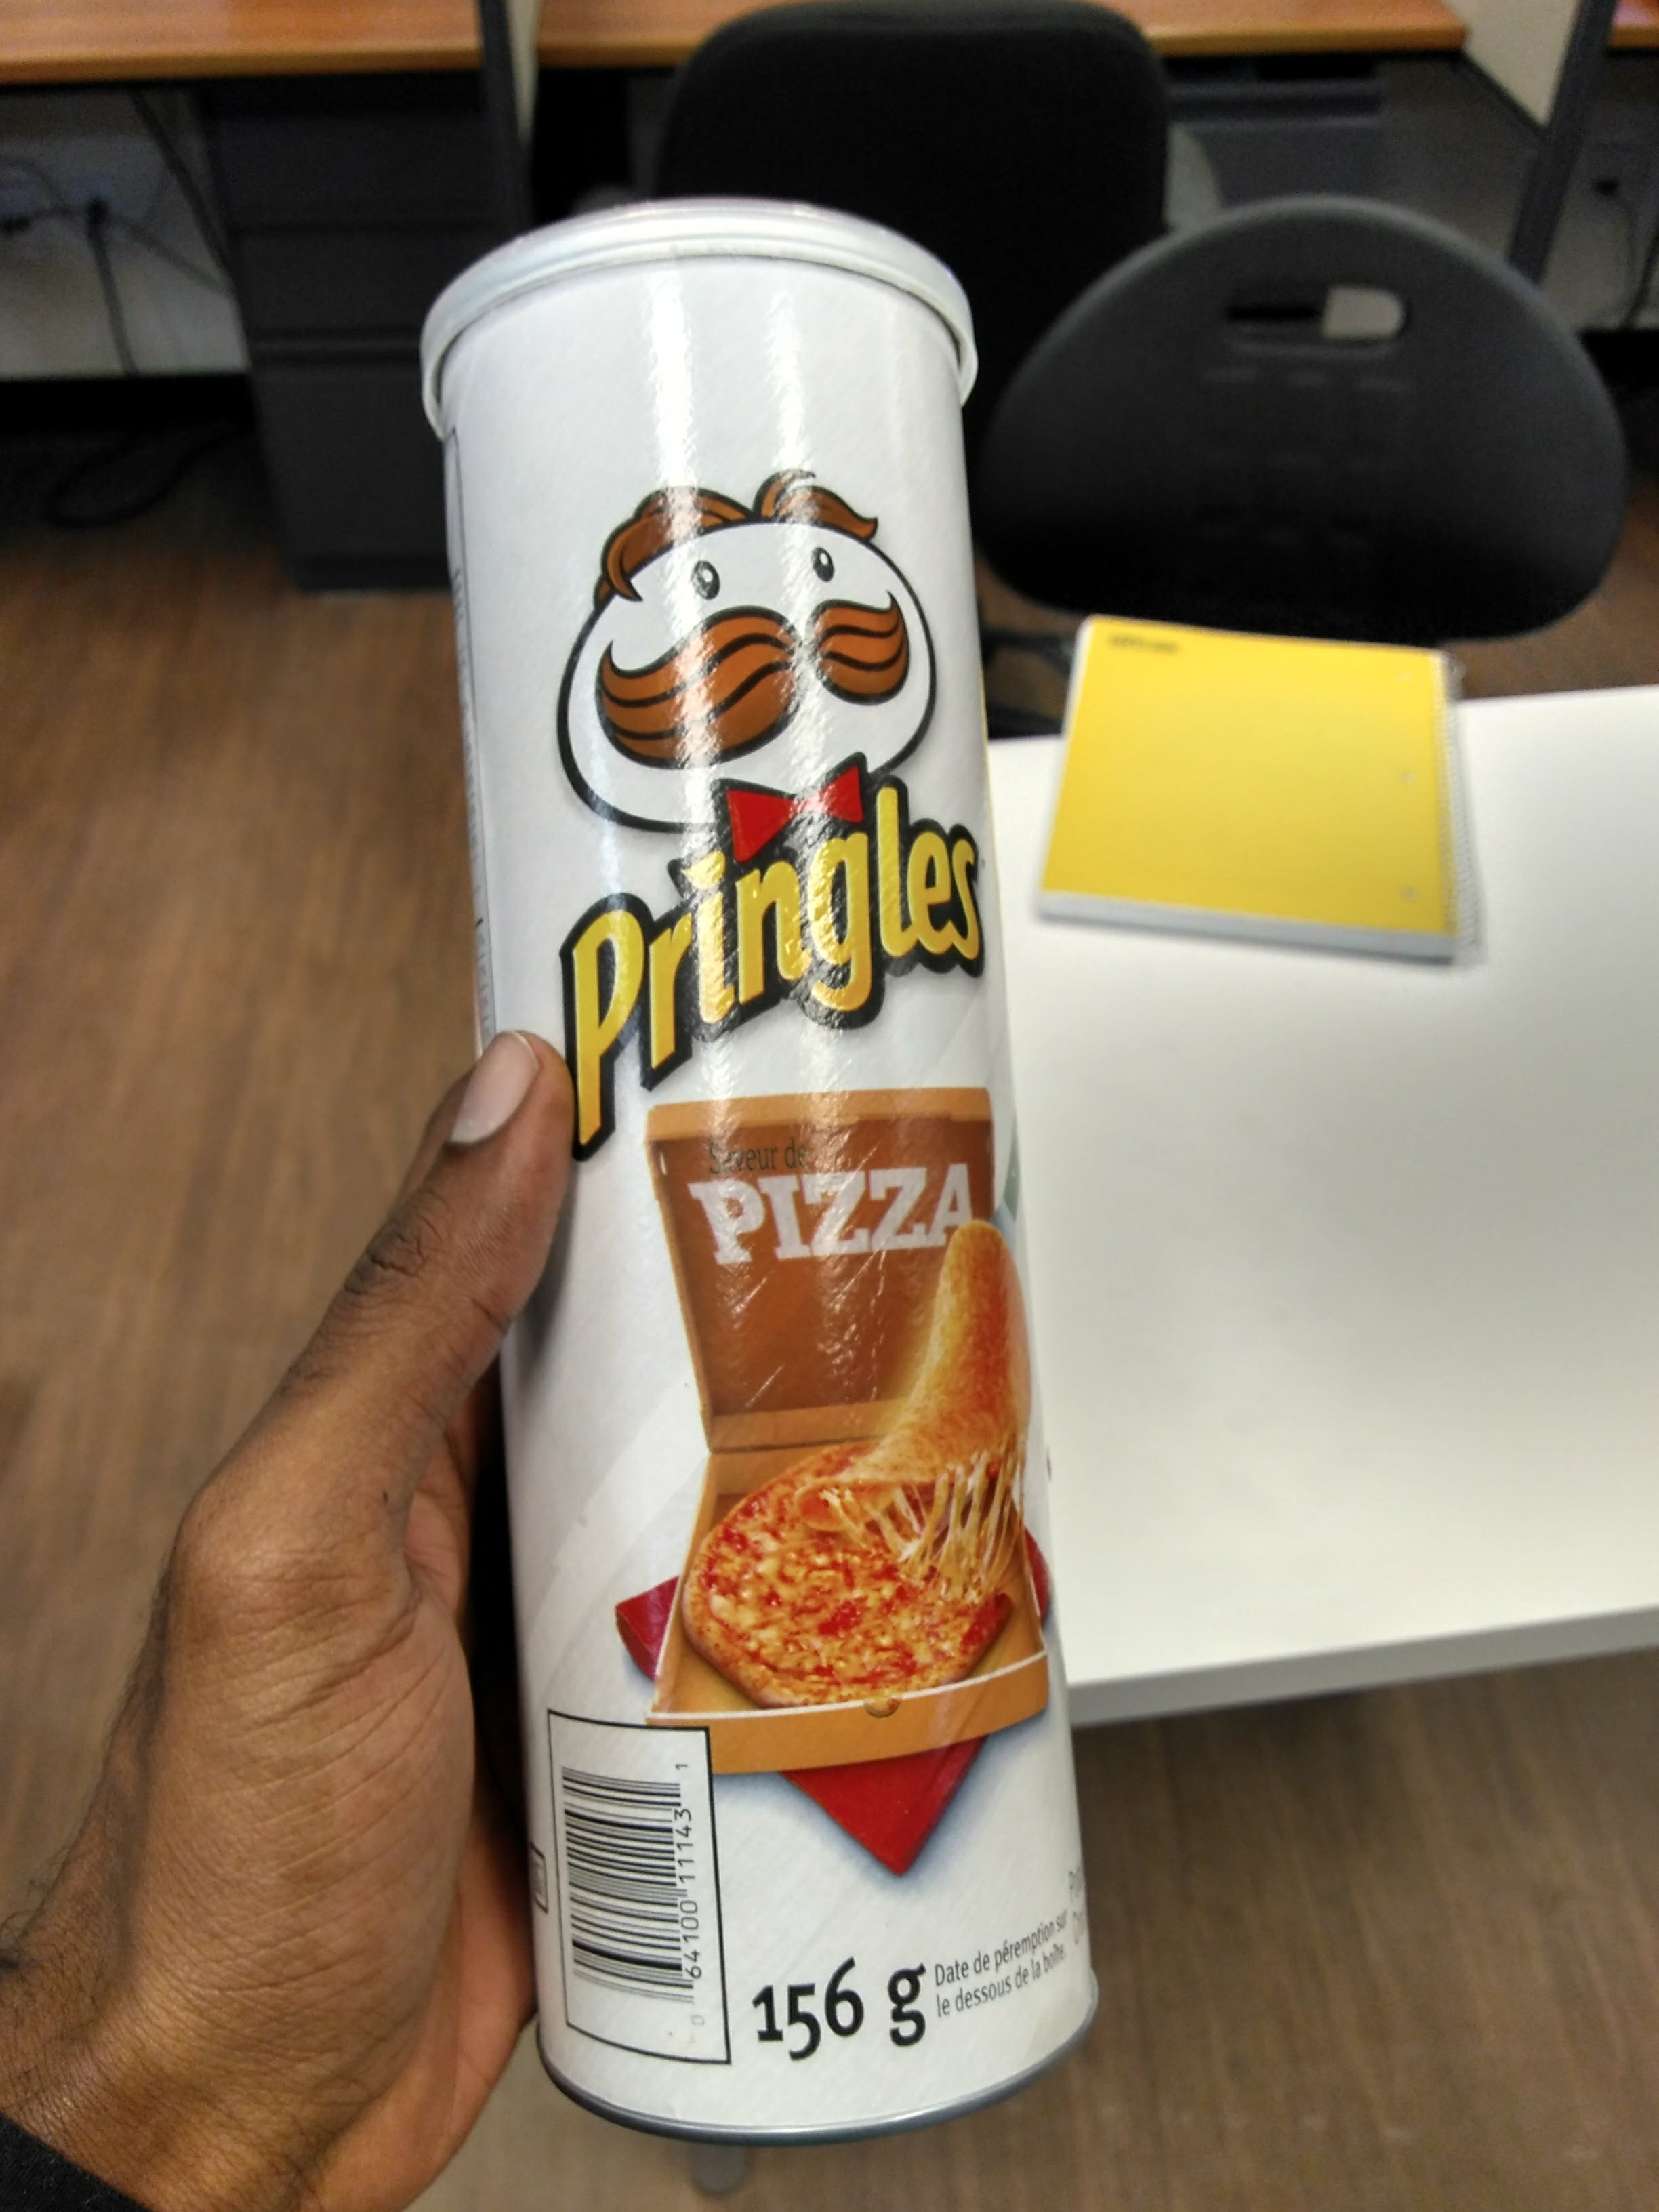pringles: (319, 178, 1194, 2149)
